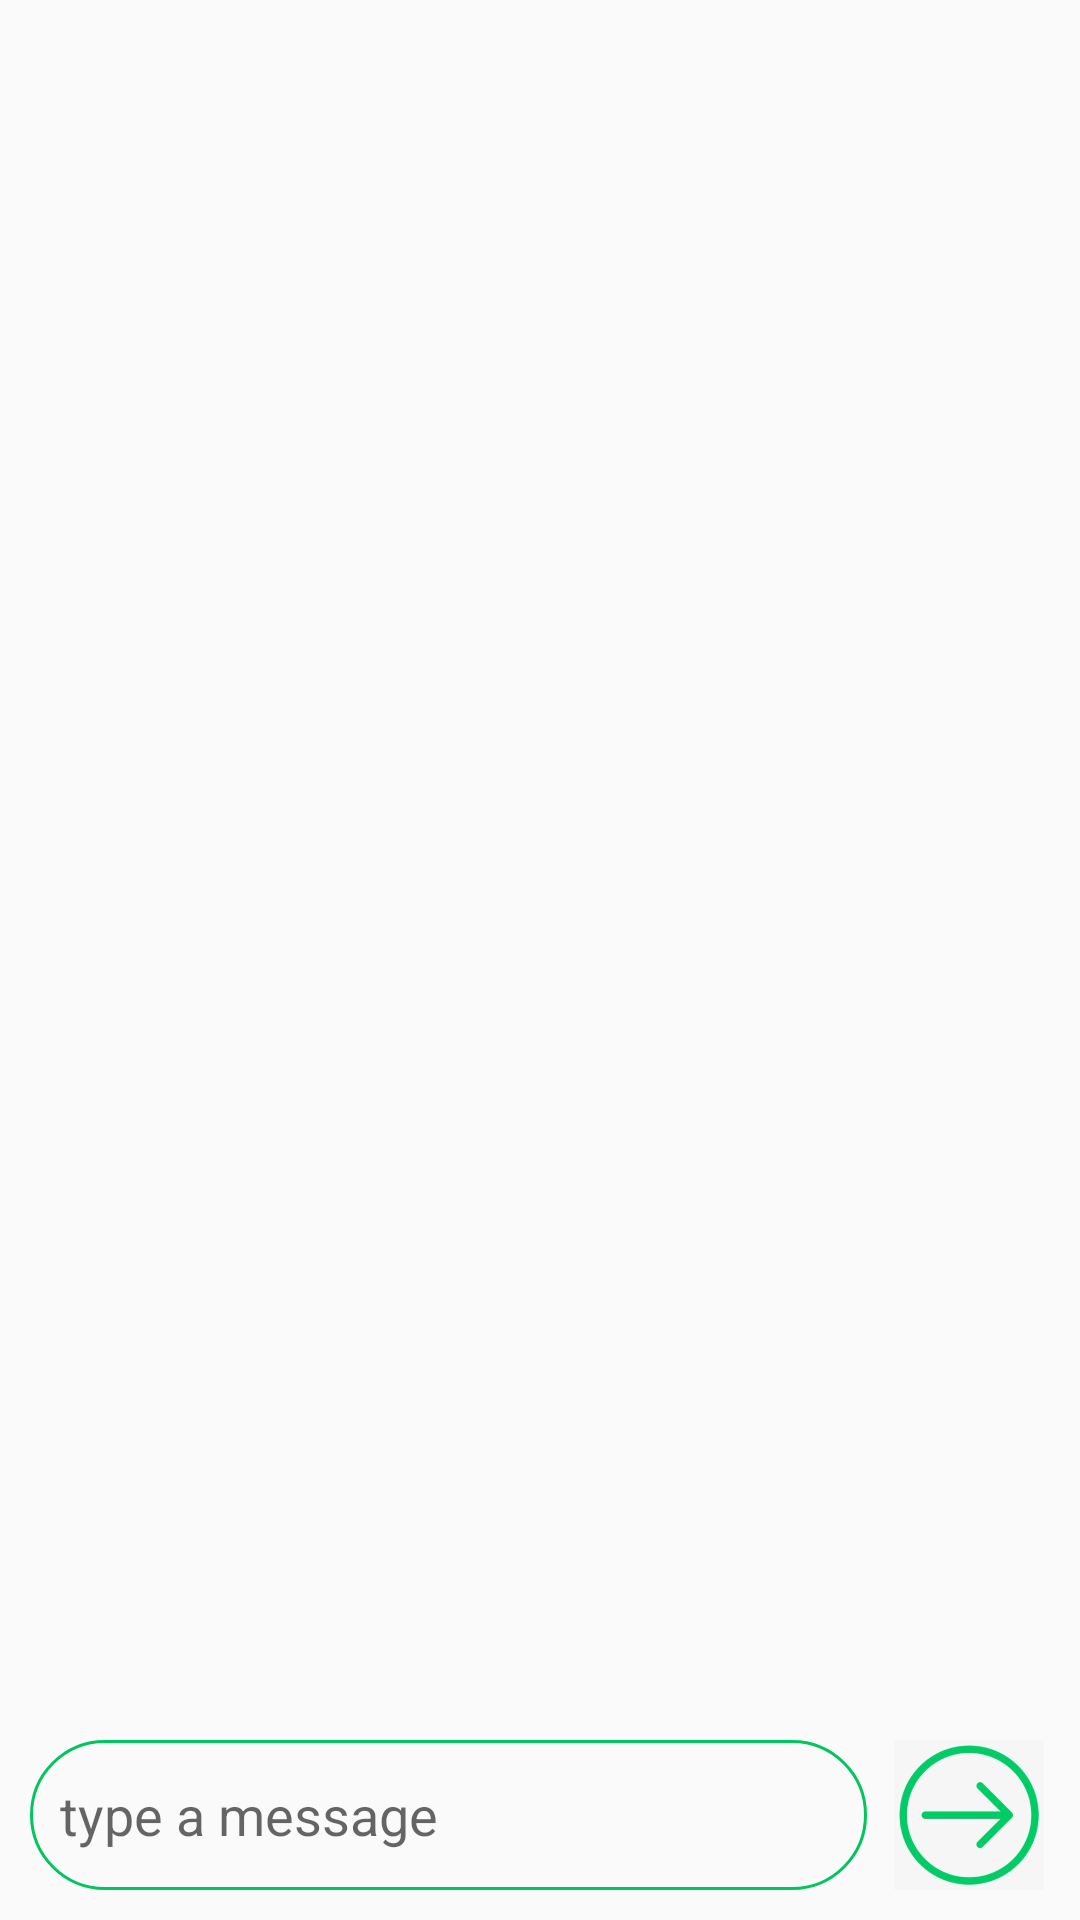

Where icons sit on this 1080×1920 app screen, as (x1, y1, x2, y2):
send: (899, 1745, 1039, 1885)
